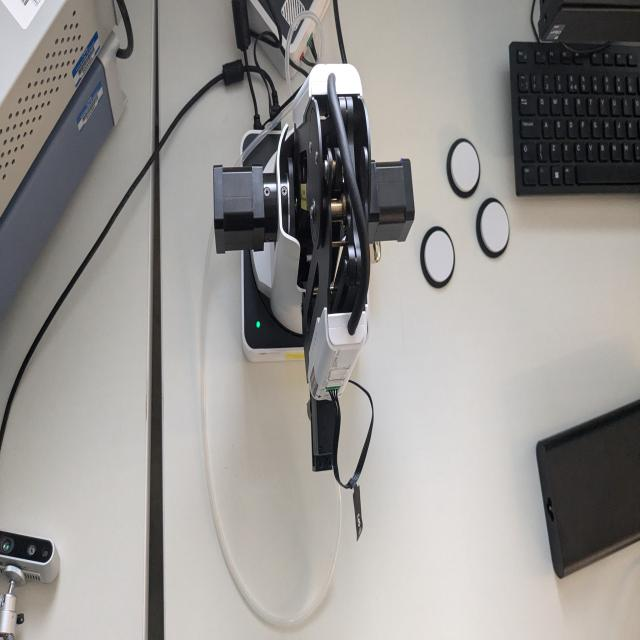Robot-end-effector-HF8z: (306, 394, 344, 481)
